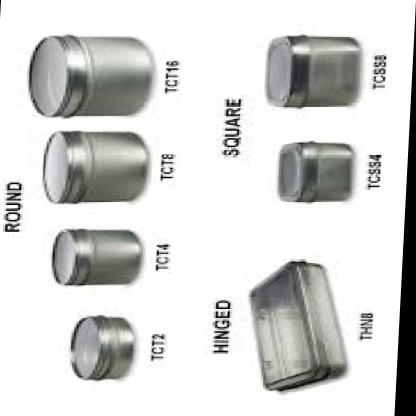Metal: (0, 11, 416, 412)
